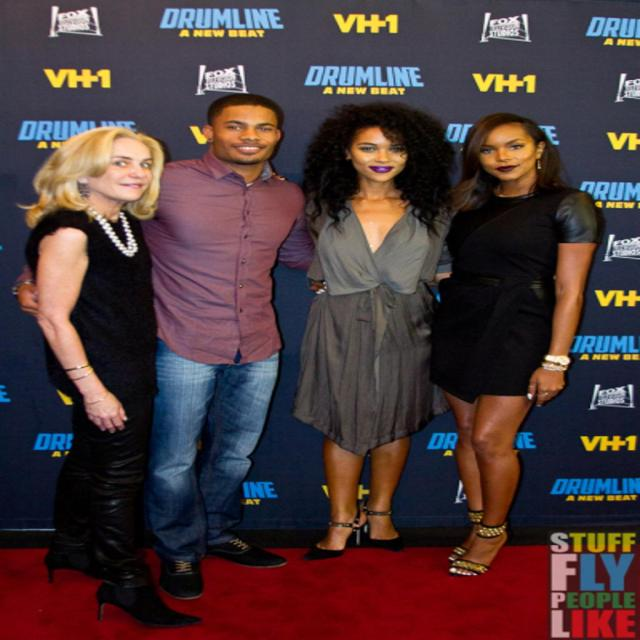Face: (456, 115, 582, 197), (76, 139, 167, 218), (341, 118, 432, 182), (208, 99, 290, 164)
